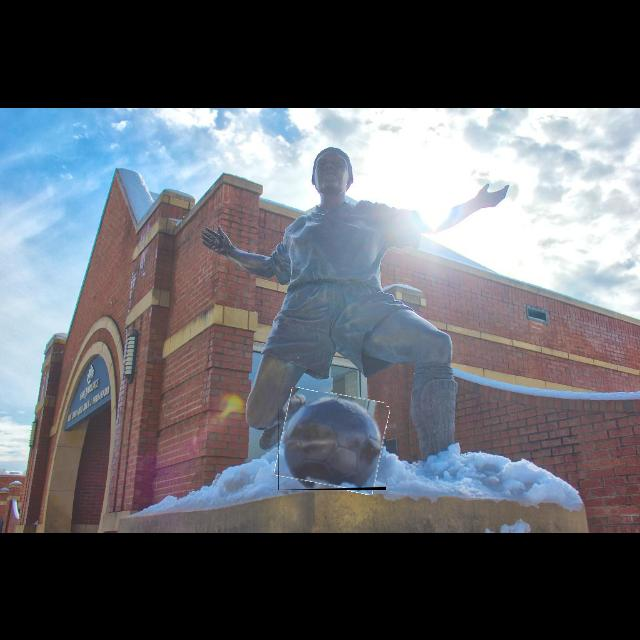Football: (278, 392, 386, 490)
